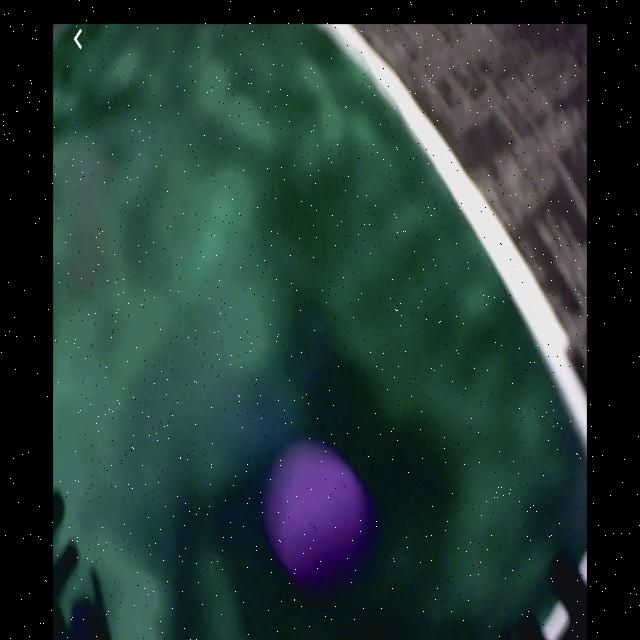ball: (285, 468, 367, 573)
